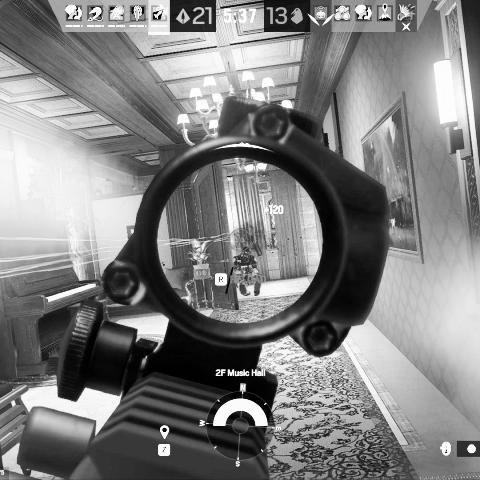Character: (231, 246, 263, 298)
Head: (241, 247, 250, 258)
